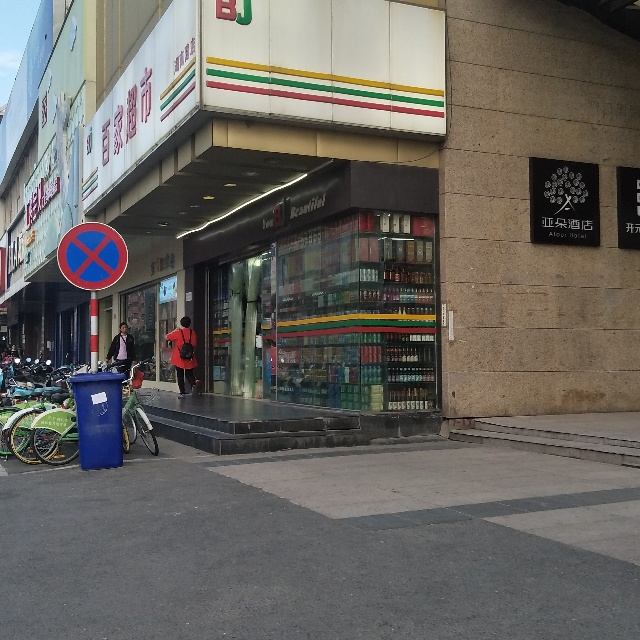stop: (57, 222, 128, 291)
